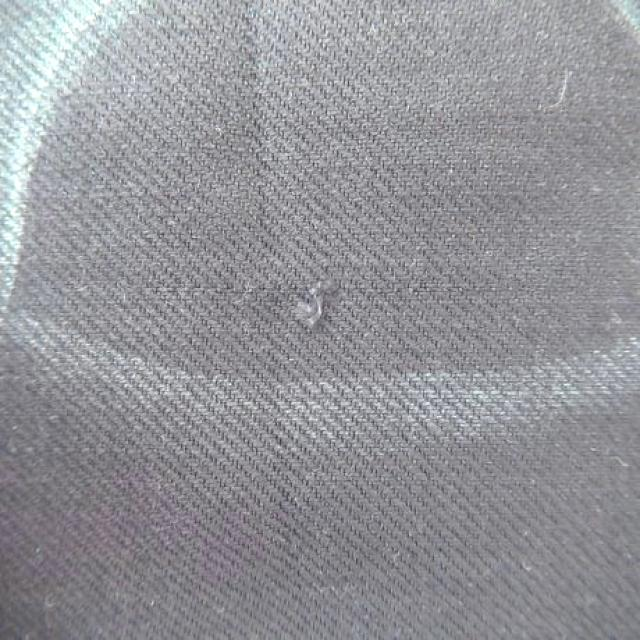stains: (110, 212, 496, 352)
